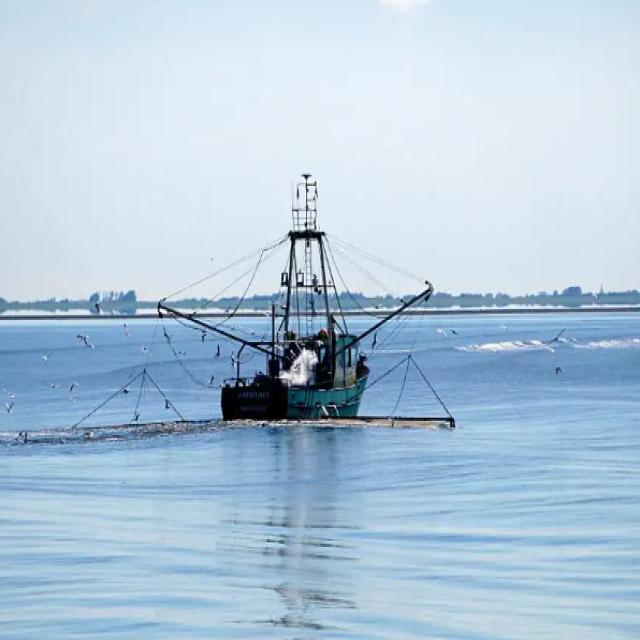fishing boat: (221, 182, 425, 419)
